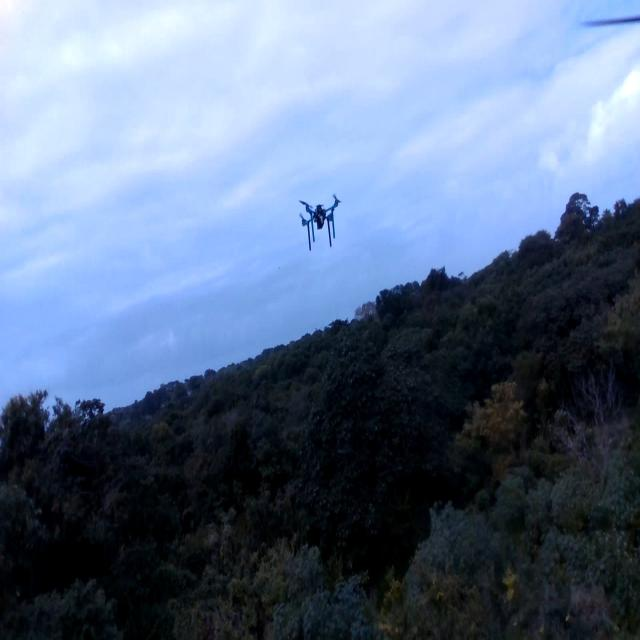-uav-: (288, 185, 352, 261)
